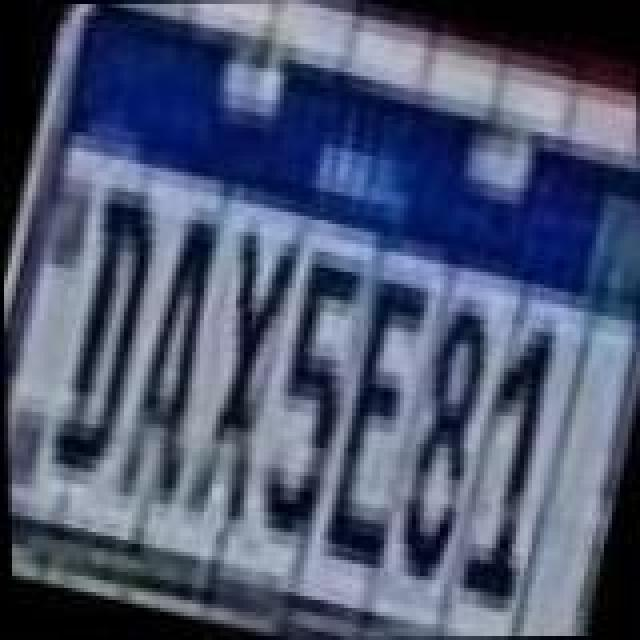1: (440, 310, 584, 610)
5: (240, 244, 380, 548)
8: (378, 294, 510, 590)
A: (98, 208, 246, 516)
D: (34, 182, 174, 482)
E: (302, 274, 446, 574)
X: (168, 224, 312, 532)
